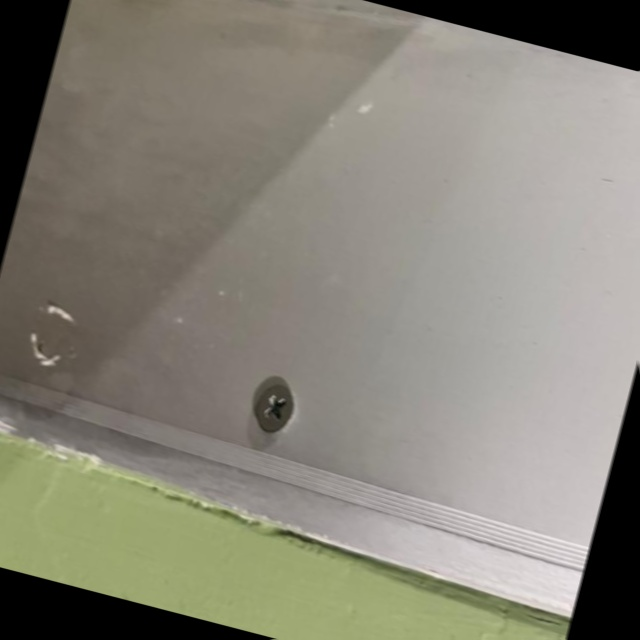phillips: (253, 380, 301, 439)
